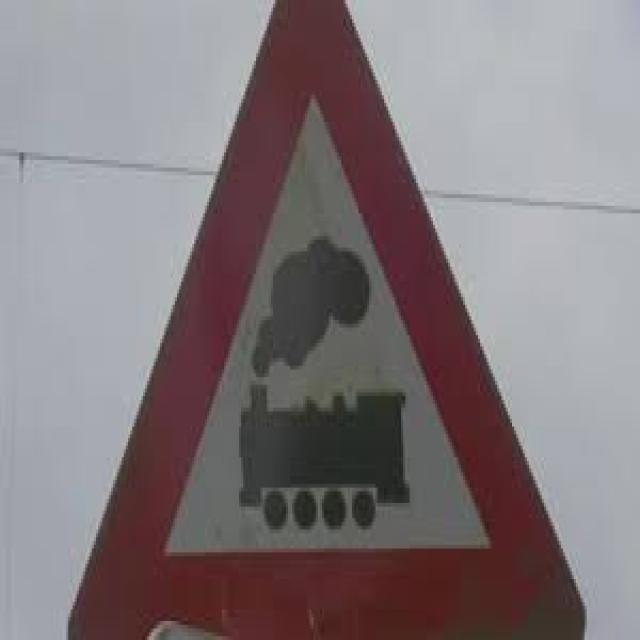unguarded level crossing: (109, 21, 539, 625)
